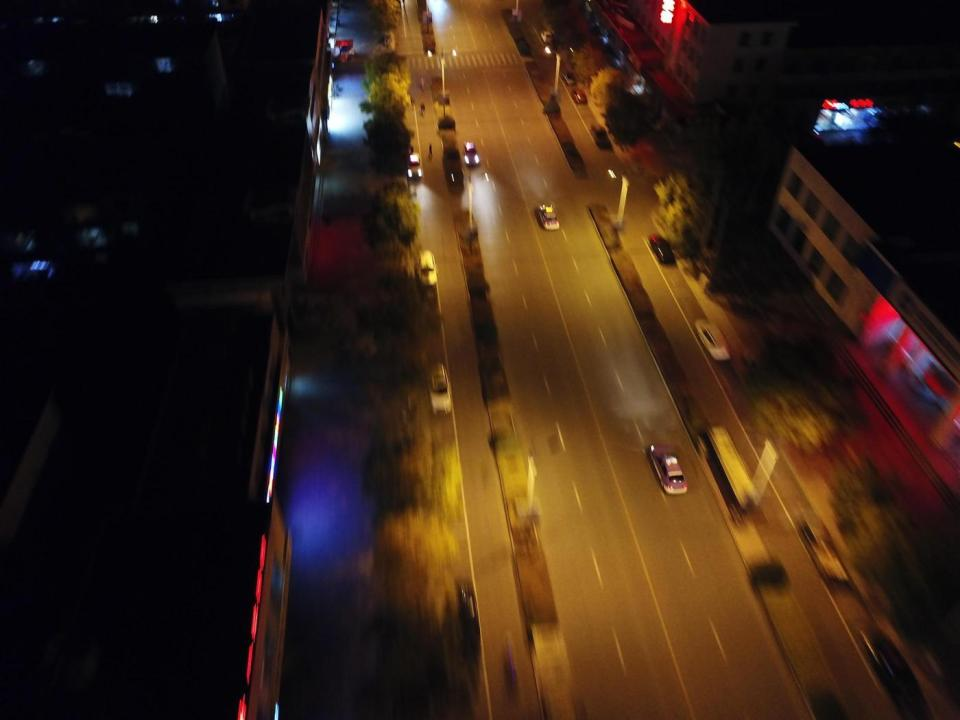car: (859, 625, 935, 719), (795, 509, 853, 585), (648, 445, 686, 493), (456, 572, 480, 642), (695, 316, 729, 362), (426, 363, 452, 415), (648, 236, 678, 265), (415, 250, 438, 286), (539, 204, 557, 229), (405, 152, 421, 180), (590, 125, 610, 146), (643, 112, 664, 131), (464, 142, 480, 166), (562, 70, 576, 86), (572, 89, 586, 104)
van: (540, 31, 553, 43)
